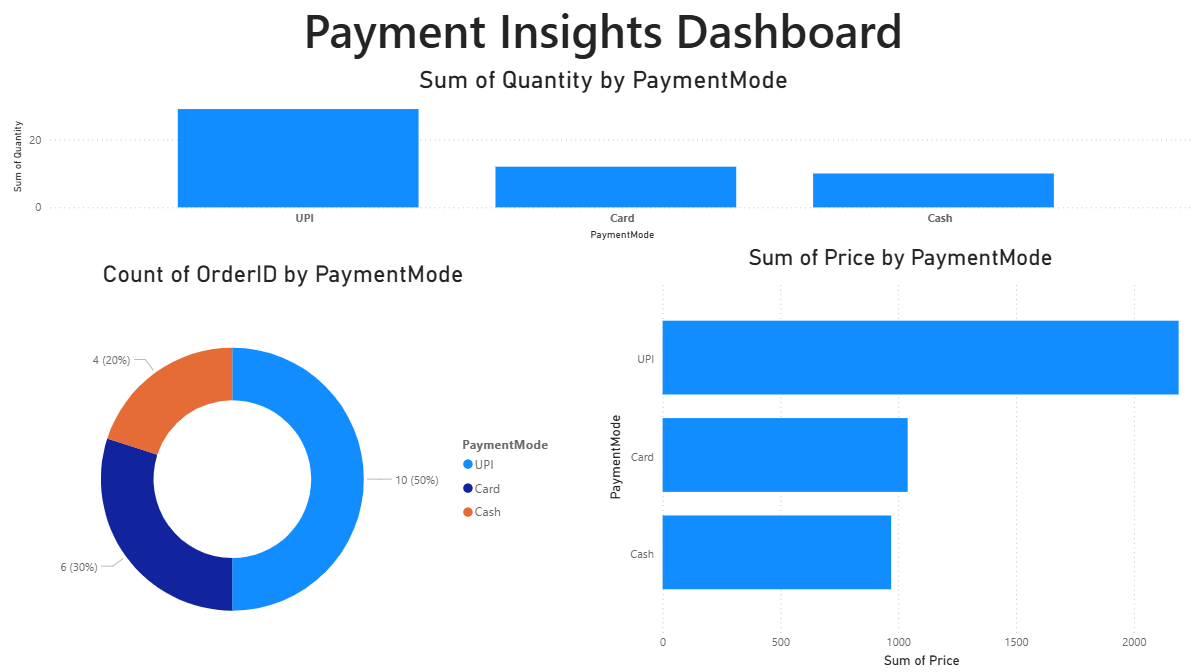

Layout of this report page (visuals, bound fields, positions):
{"tool":"powerbi","page":{"name":"Payment Insights","canvas":[1280,720],"ordinal":1},"visuals":[{"type":"textbox","title":"Payment Insights Dashboard","box":[10,0,1270,280],"z":0},{"type":"donutChart","fields":{"Category":["Sheet1.PaymentMode"],"Y":["CountNonNull(Sheet1.OrderID)"]},"box":[0,280.6,608.3,438.9],"z":1000},{"type":"clusteredBarChart","fields":{"Category":["Sheet1.PaymentMode"],"Y":["Sum(Sheet1.Price)"]},"box":[645.8,262.5,634.7,456.9],"z":2000},{"type":"lineStackedColumnComboChart","fields":{"Category":["Sheet1.PaymentMode"],"Y":["Sum(Sheet1.Quantity)"]},"box":[10.3,70.6,1270.6,192.6],"z":3000}]}

Visuals, with their boxes in screenshot pixels (x1, y1, x2, y2), scaled from the page's 1280x720 canvas onto the 1198x672 screenshot:
"Payment Insights Dashboard" textbox: l=9, t=0, r=1197, b=261
donutChart - Sheet1.PaymentMode x CountNonNull(Sheet1.OrderID): l=0, t=262, r=569, b=671
clusteredBarChart - Sheet1.PaymentMode x Sum(Sheet1.Price): l=604, t=245, r=1197, b=671
lineStackedColumnComboChart - Sheet1.PaymentMode x Sum(Sheet1.Quantity): l=10, t=66, r=1197, b=246
